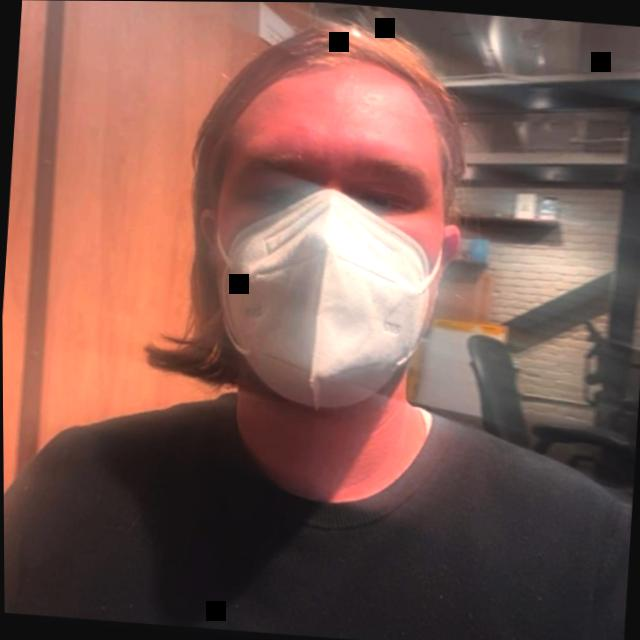Mask: (145, 1, 508, 415)
